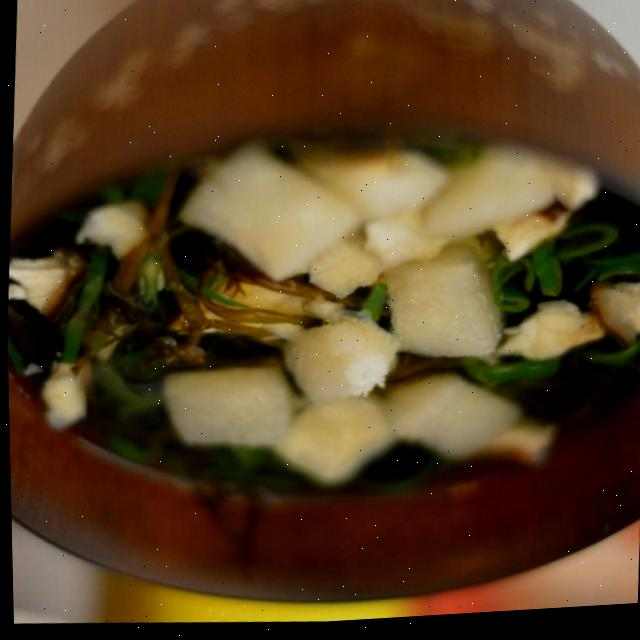汤锅炖物: (2, 79, 640, 560)
